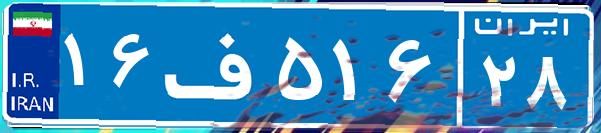1: (330, 28, 385, 110), (57, 26, 110, 107)
2: (475, 38, 525, 113)
5: (273, 28, 330, 110)
6: (385, 28, 445, 110), (110, 28, 158, 105)
8: (525, 38, 570, 115)
ف: (158, 15, 273, 115)
